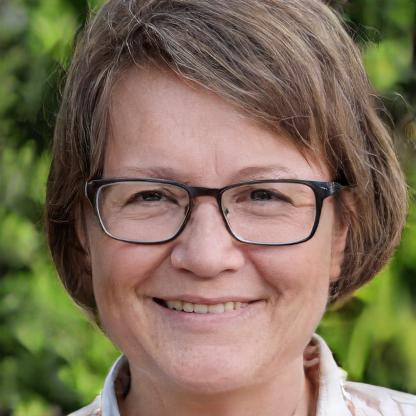glasses: (86, 173, 330, 248)
